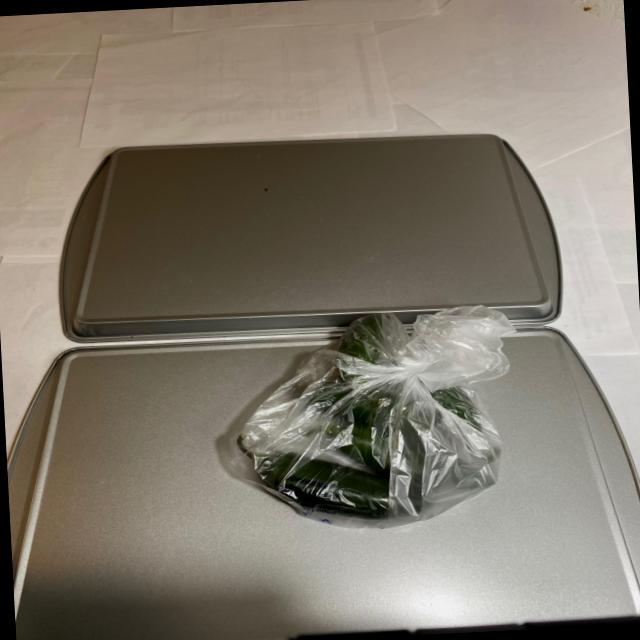chilli: (228, 306, 496, 521)
